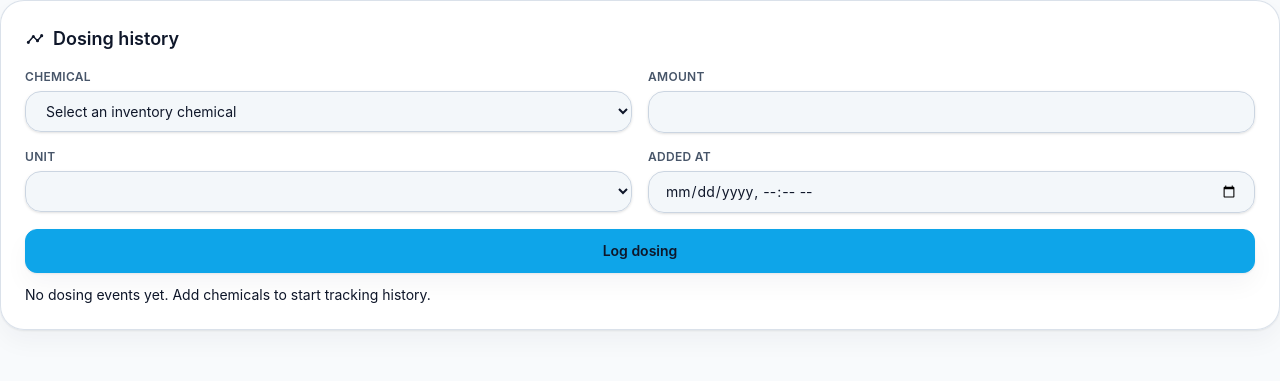
Test: DosingHistoryCard › surfaces API errors when dosing creation fails
This screenshot has width=1280, height=381.
Select "Generic Liquid Chlorine" in the dropdown labelled "Chemical" at (328, 112), box [25,91,632,132]
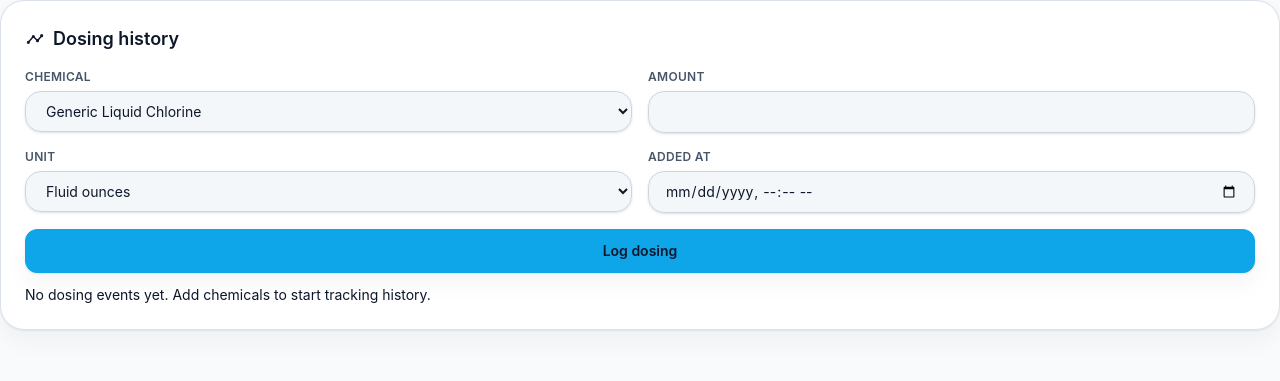
Type "12" into the number field labelled "Amount" at (952, 112), box [648,91,1255,133]
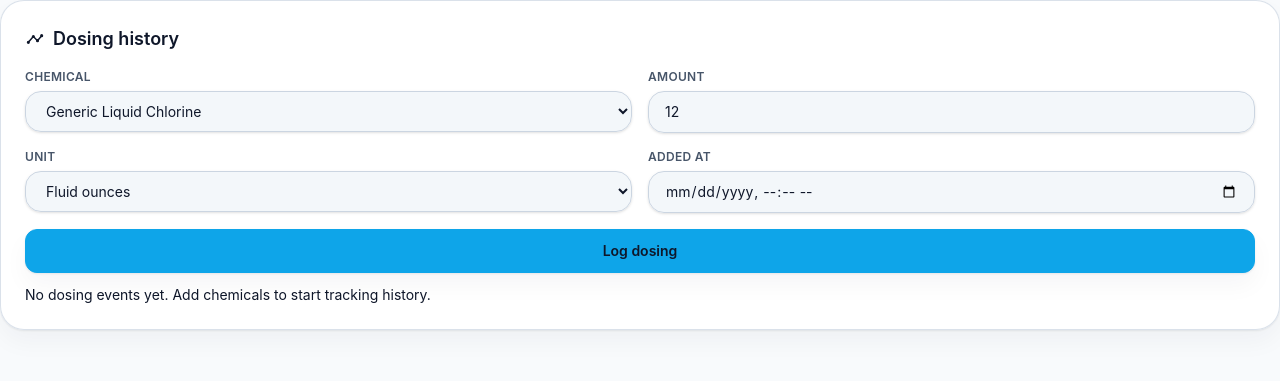
Select "Fluid ounces" in the dropdown labelled "Unit" at (328, 192), box [25,171,632,212]
Click the button "Log dosing" at (640, 251), box [25,229,1255,273]
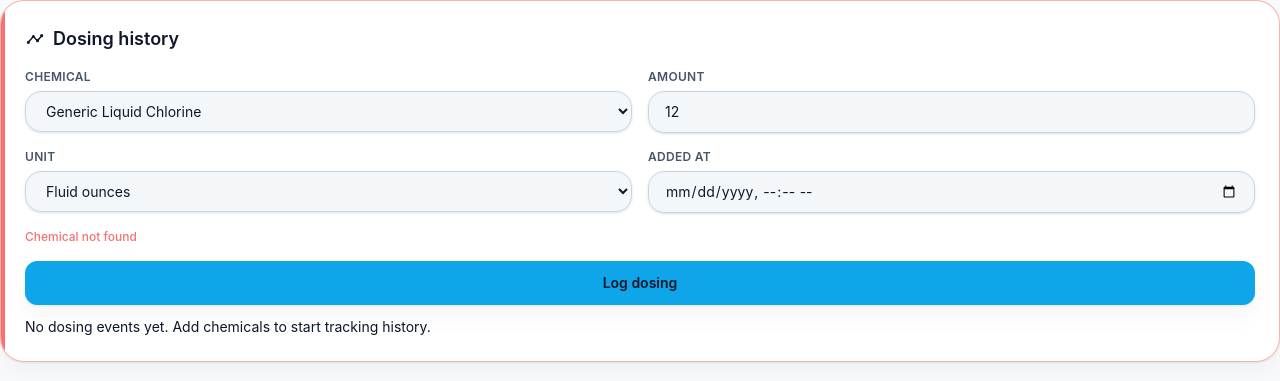
Check: the message reads "Chemical not found", box [25,229,137,244]
